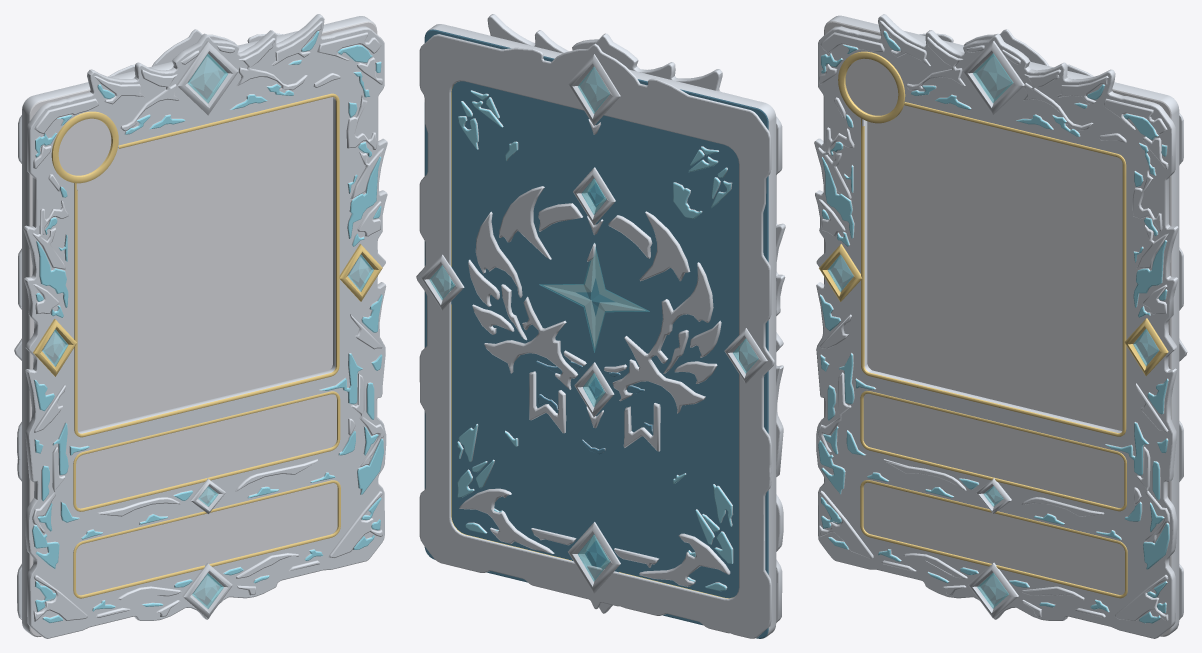
File: card-skin-platinum.glb
The picture shows the model from 3 angles, left to right: view 1: azimuth 30°, elevation 25°; view 2: azimuth 150°, elevation 25°; view 3: azimuth 330°, elevation 25°; orthographic projection.
Parts seen in each view (by area): view 1: slab, front-frame, front-platinum-wings, name-plate, stat-plate, front-ice-shards, rim-window, gem, gem-bezels-platinum, medal-disc, rim-name, rim-stat (+4 smaller); view 2: slab, back-frame, back-emblem-platinum, gem, gem-bezels-platinum, back-corner-ice, front-frame, gem-foils, back-gold-rim, back-emblem-ribbons; view 3: slab, front-frame, front-platinum-wings, name-plate, stat-plate, front-ice-shards, rim-window, gem, gem-bezels-platinum, medal-disc, rim-name, rim-stat (+4 smaller).
Boxes of the visible parts, x1,y1,x2,y2 form: slab: (22, 16, 377, 637); front-frame: (23, 14, 387, 638); front-platinum-wings: (32, 21, 384, 621); name-plate: (76, 394, 336, 508); stat-plate: (76, 483, 337, 595); front-ice-shards: (32, 31, 383, 623); rim-window: (74, 93, 339, 437); gem: (42, 54, 373, 608); gem-bezels-platinum: (176, 41, 238, 618); medal-disc: (58, 118, 111, 175); rim-name: (73, 391, 340, 511); rim-stat: (73, 480, 340, 598); slab: (424, 24, 776, 638); back-frame: (416, 34, 774, 638); back-emblem-platinum: (459, 119, 730, 586); gem: (429, 67, 758, 581); gem-bezels-platinum: (420, 54, 767, 593); back-corner-ice: (457, 90, 733, 591); front-frame: (452, 14, 785, 622); gem-foils: (430, 66, 758, 581); back-gold-rim: (451, 83, 733, 598); back-emblem-ribbons: (536, 360, 652, 454); slab: (824, 15, 1179, 636); front-frame: (814, 14, 1178, 638); front-platinum-wings: (818, 20, 1169, 620); name-plate: (863, 393, 1124, 507); stat-plate: (863, 482, 1124, 594); front-ice-shards: (818, 30, 1169, 623); rim-window: (861, 102, 1126, 436); gem: (827, 53, 1158, 608); gem-bezels-platinum: (962, 41, 1024, 618); medal-disc: (845, 58, 898, 115); rim-name: (860, 391, 1126, 511); rim-stat: (860, 480, 1127, 598).
Bounding box in the file's own units: 0.9627 × 1.49 × 0.1103.
